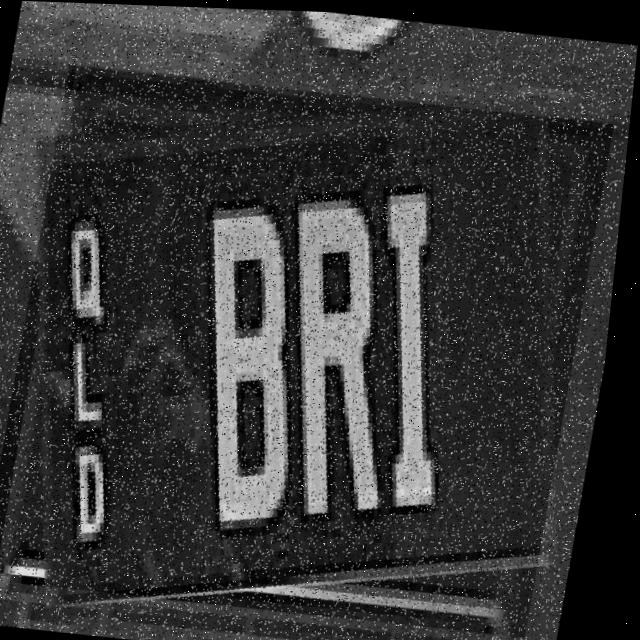LicensePlate: (0, 64, 619, 634)
